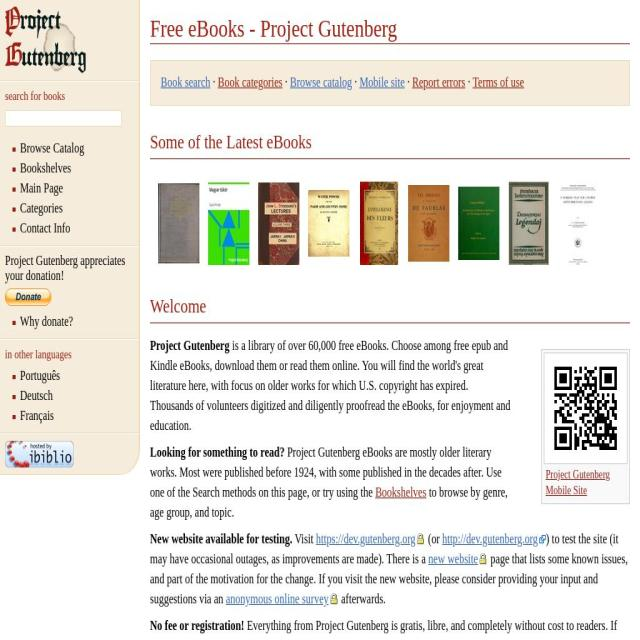button: (226, 591, 340, 606), (316, 531, 426, 546), (442, 531, 546, 546), (428, 551, 489, 566)
field: (5, 110, 123, 128), (5, 288, 51, 307)
heading: (150, 14, 630, 44), (150, 130, 312, 152), (150, 295, 206, 317), (5, 347, 72, 360), (5, 88, 65, 102)
iframe: (150, 170, 630, 272)
image: (544, 352, 626, 462), (5, 7, 86, 73), (5, 440, 74, 468)
link: (546, 466, 610, 496), (218, 74, 282, 89), (20, 140, 84, 155), (290, 74, 352, 89), (412, 74, 465, 89), (20, 314, 73, 329), (473, 74, 525, 89), (375, 484, 427, 499), (20, 160, 71, 175), (160, 74, 210, 89), (20, 220, 70, 235), (360, 74, 406, 89), (20, 180, 63, 195), (20, 200, 62, 215), (20, 368, 60, 382), (20, 408, 54, 422), (20, 388, 52, 402), (385, 637, 421, 640)
text: (150, 338, 511, 432), (150, 551, 628, 606), (150, 444, 502, 499), (150, 531, 619, 566), (150, 484, 508, 519), (150, 617, 617, 640), (5, 252, 126, 282), (150, 531, 292, 546), (150, 444, 284, 459), (150, 637, 613, 640), (150, 618, 244, 632), (150, 338, 229, 352), (338, 591, 386, 606), (292, 531, 316, 546), (425, 531, 442, 546), (210, 74, 218, 89), (282, 74, 290, 89), (352, 74, 360, 89), (404, 74, 412, 89), (465, 74, 473, 89)
